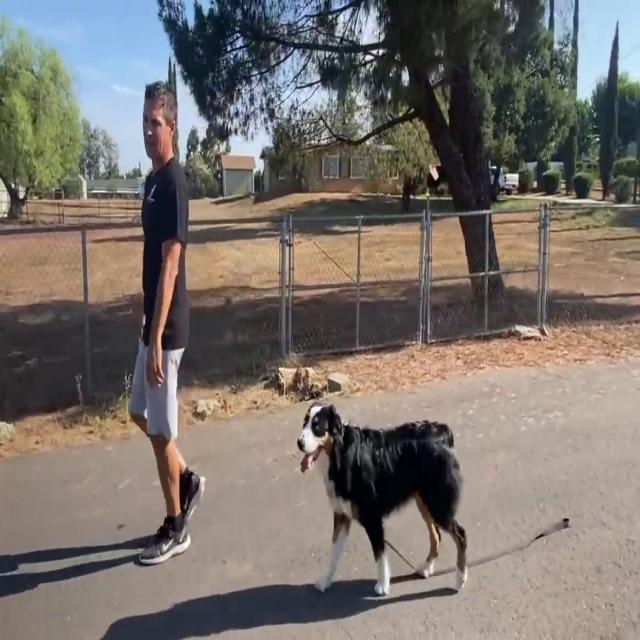Unleashed_Dog: (152, 338, 468, 600)
